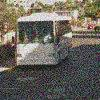buses: (15, 11, 74, 69)
